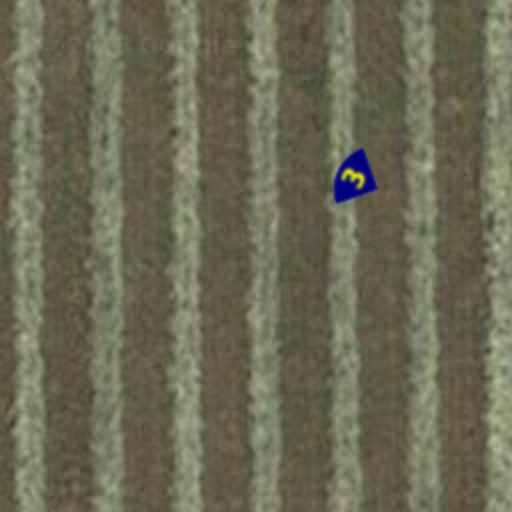quarter_circle: (314, 138, 394, 218)
